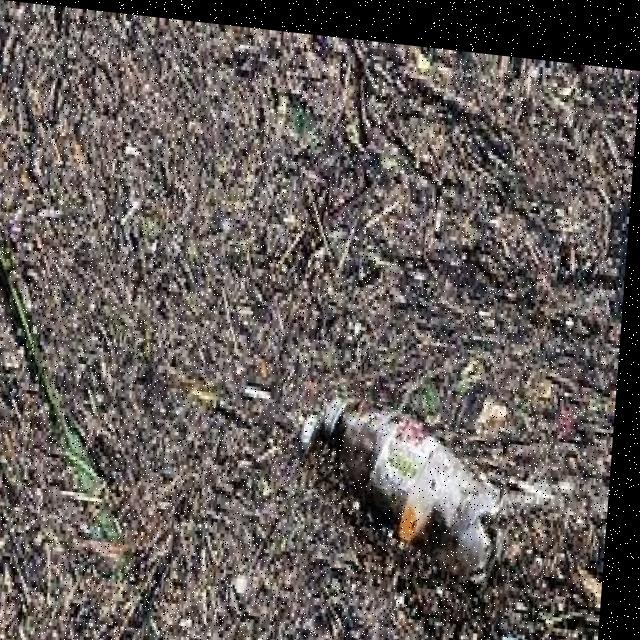litter: (329, 382, 506, 573)
